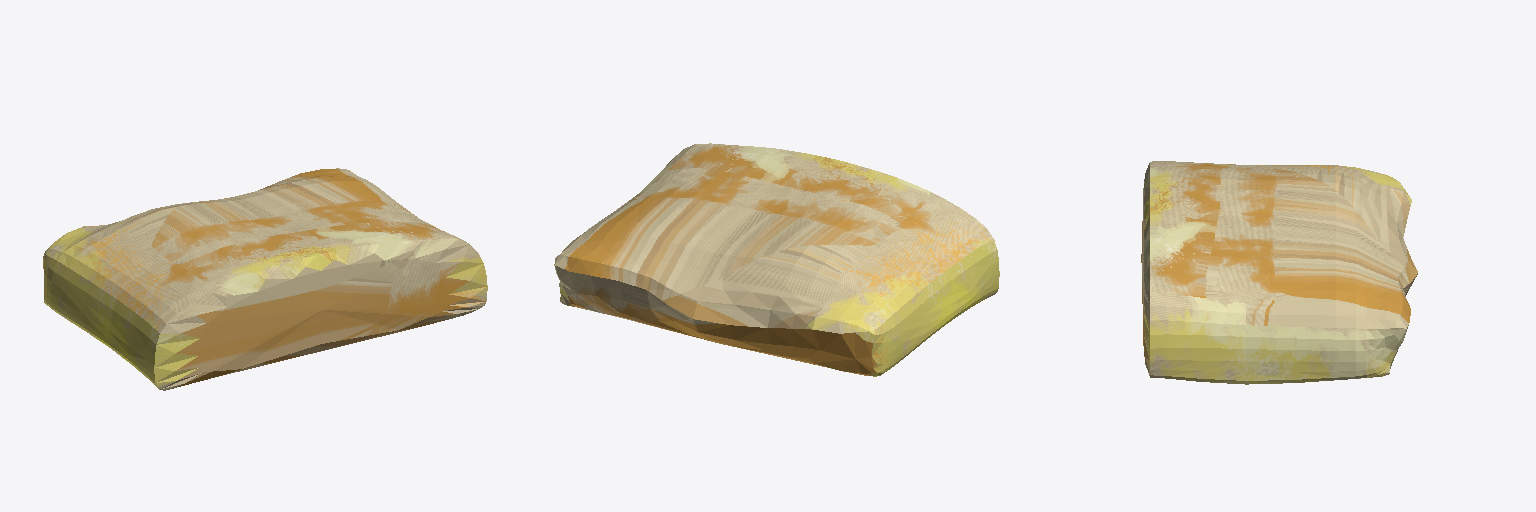
The picture shows the model from 3 angles: view 1: azimuth 30°, elevation 25°; view 2: azimuth 150°, elevation 25°; view 3: azimuth 270°, elevation 25°; orthographic projection.
Parts seen in each view (by area): view 1: Cube.038_Cube.040; view 2: Cube.038_Cube.040; view 3: Cube.038_Cube.040.
Part boxes in pixels (left/top/right/bottom): Cube.038_Cube.040: left=43, top=168, right=487, bottom=390; Cube.038_Cube.040: left=554, top=143, right=999, bottom=376; Cube.038_Cube.040: left=1141, top=161, right=1417, bottom=384.
Size of the model in its own units: 1.08 by 0.3071 by 0.7769.
Materials: 1 (1 with a texture image).